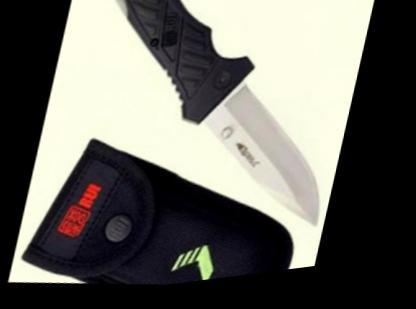knife: (172, 64, 354, 252)
